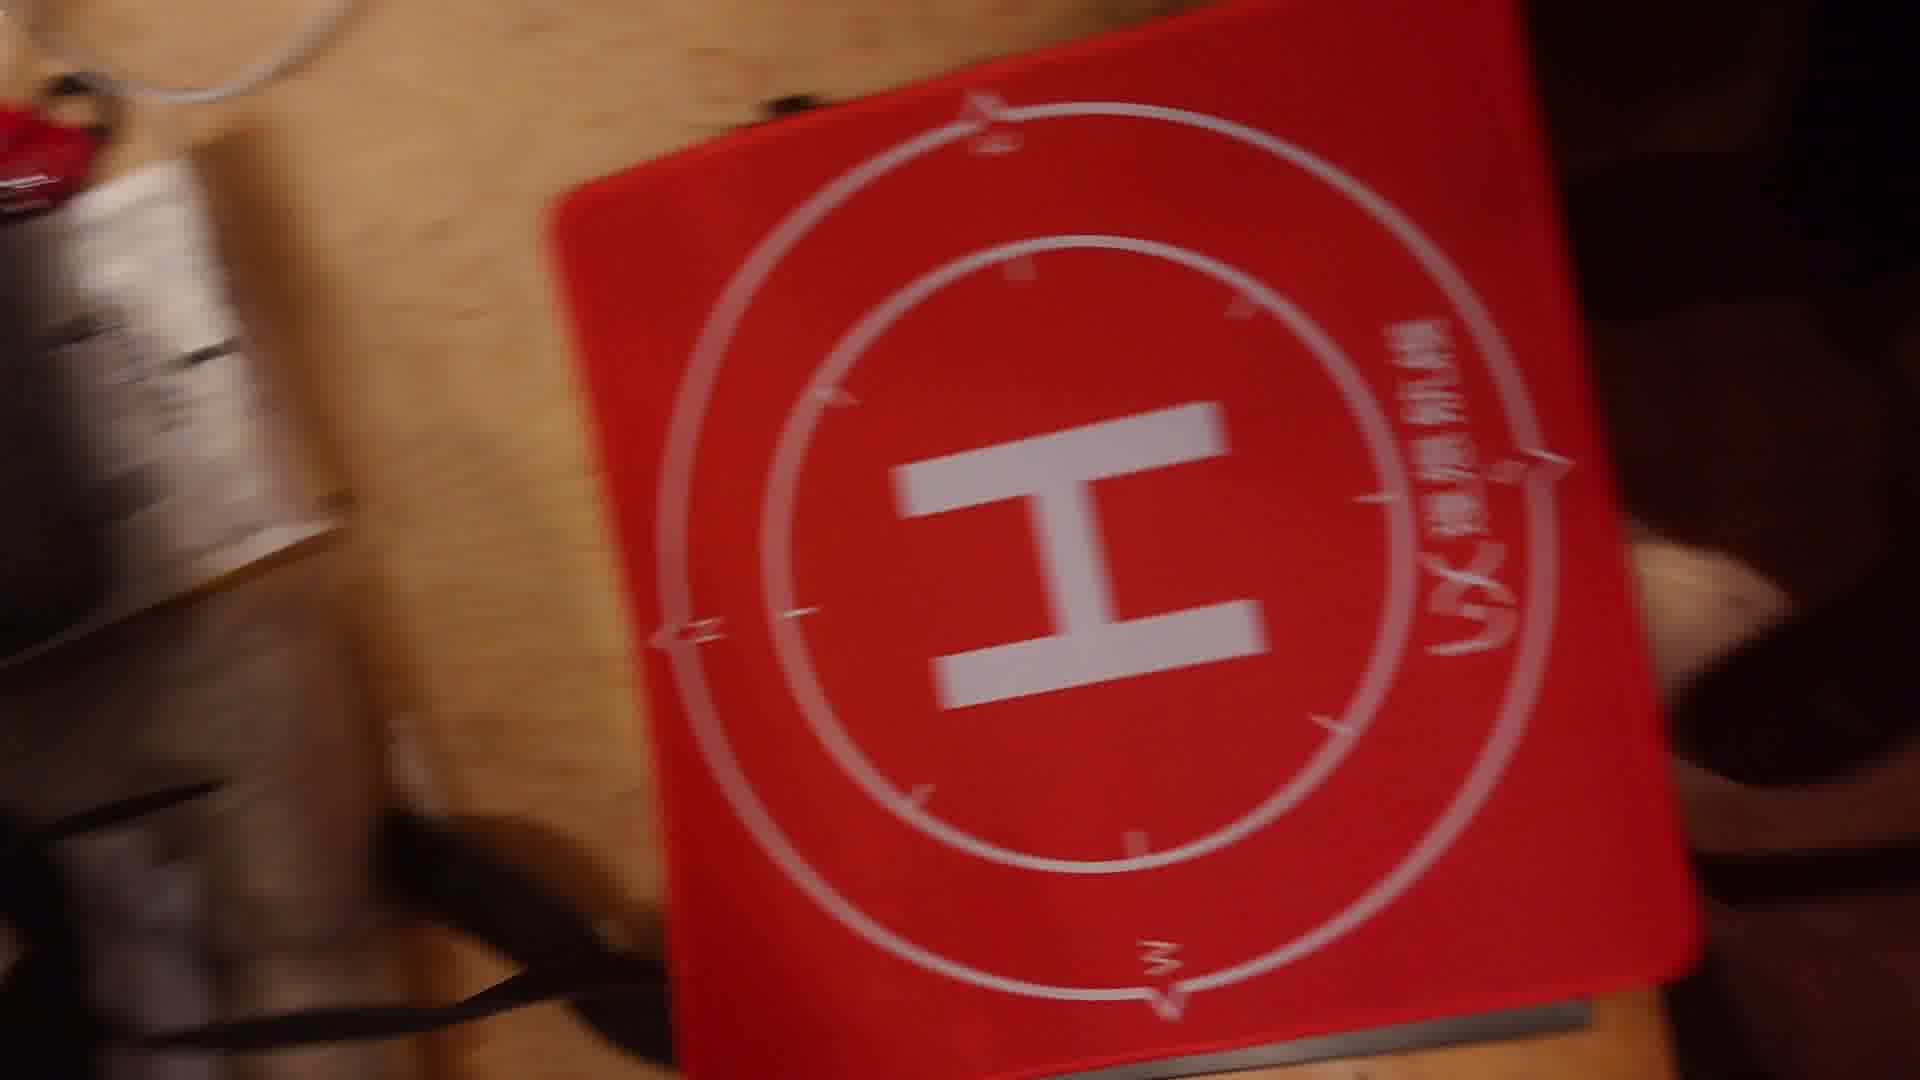H: (891, 401, 1273, 708)
